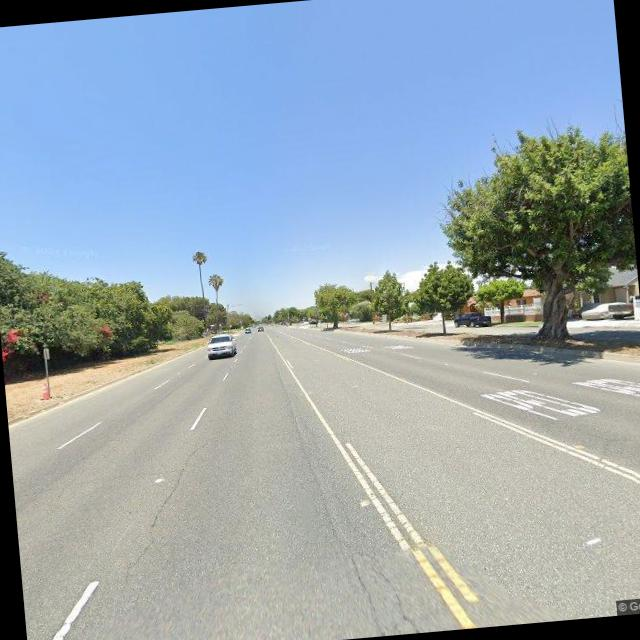pothole: (138, 437, 215, 527)
